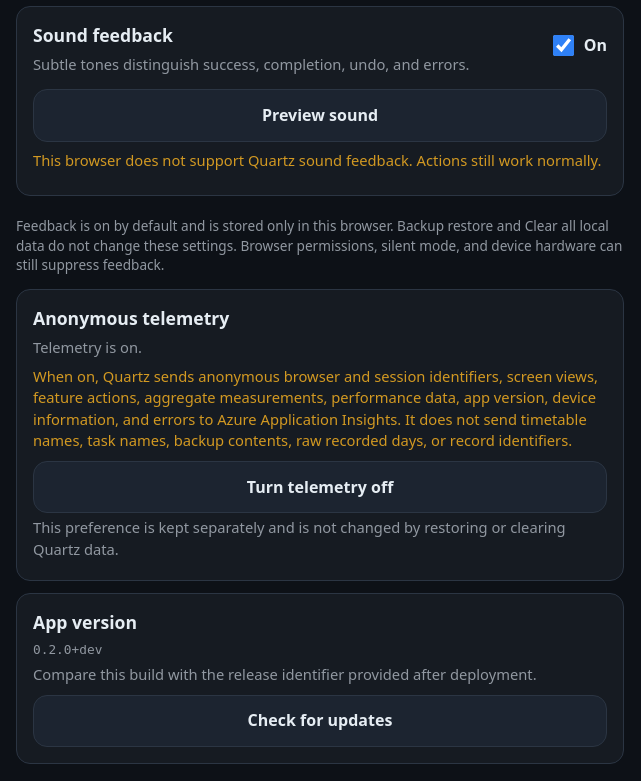
Scenario: settings › discloses anonymous telemetry and persists the user control outside app data
(page scrolled)
Expected: the text "Telemetry is on." is shown, [33, 337, 142, 357]
Expected: the text "It does not send timetable names, task names, backup contents" is shown, [33, 366, 598, 450]
Click the button "Turn telemetry off" at (320, 487), box [33, 461, 607, 513]
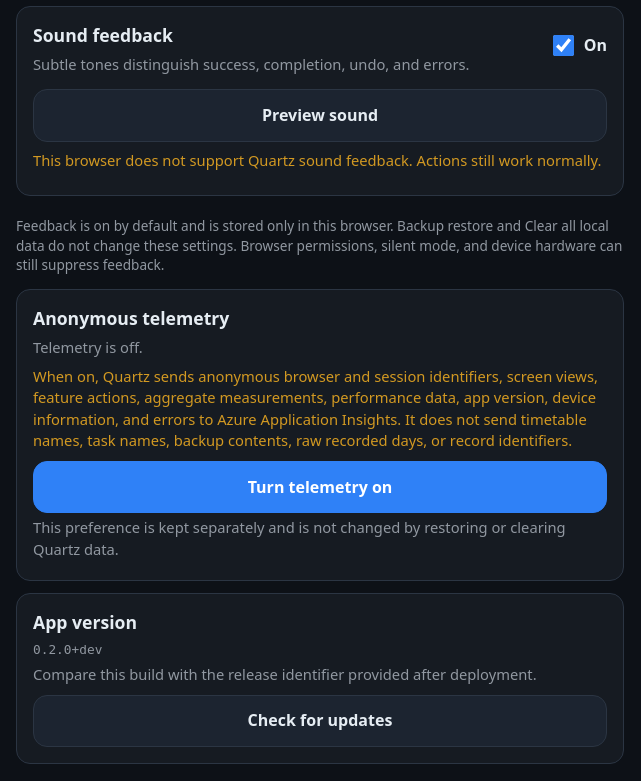
Result: the text "Telemetry is off." is shown at [33, 337, 143, 357]
Result: the button "Turn telemetry on" is shown at [33, 461, 607, 513]
